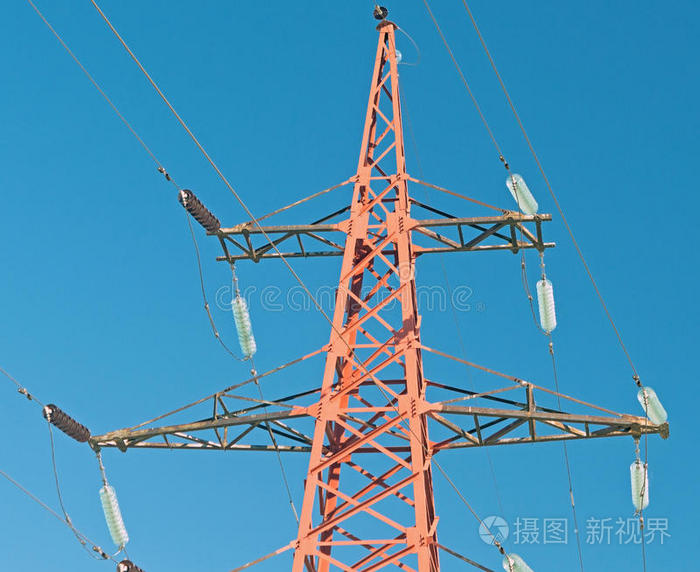insulator: (177, 190, 222, 231), (39, 403, 90, 439), (100, 487, 128, 544), (230, 298, 256, 356), (506, 174, 537, 216), (637, 385, 669, 424), (537, 277, 559, 330), (628, 459, 650, 506)
